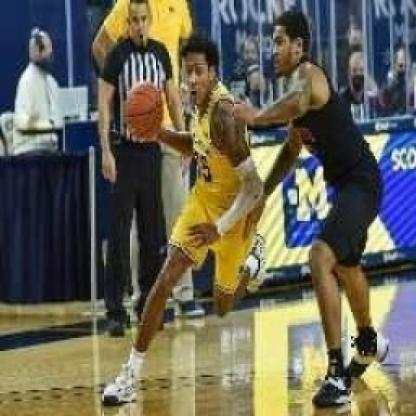basketball: (124, 79, 168, 146)
